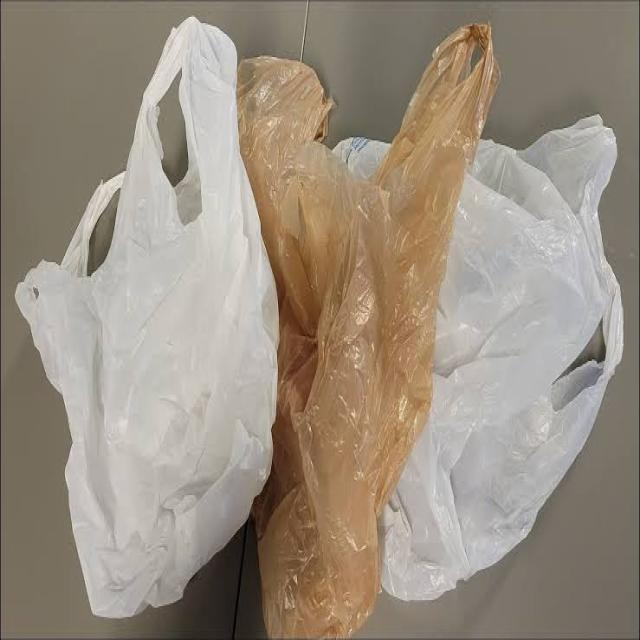residual: (9, 0, 280, 623), (238, 44, 505, 640), (343, 112, 623, 590)
